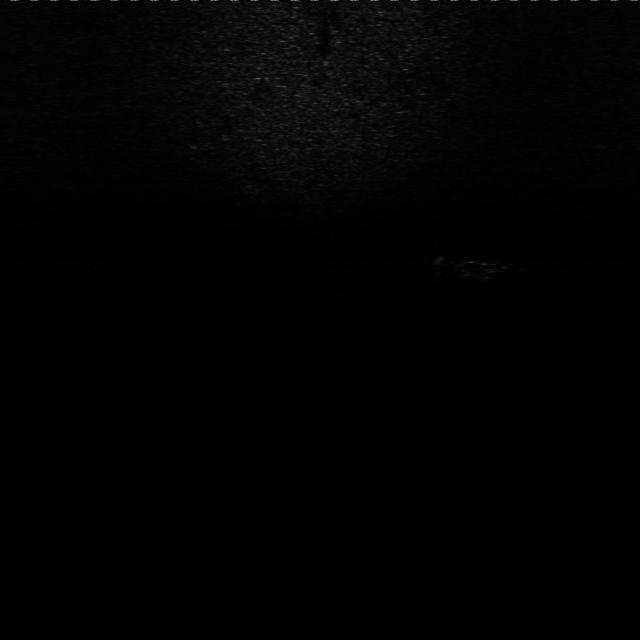human body: (427, 248, 524, 289)
